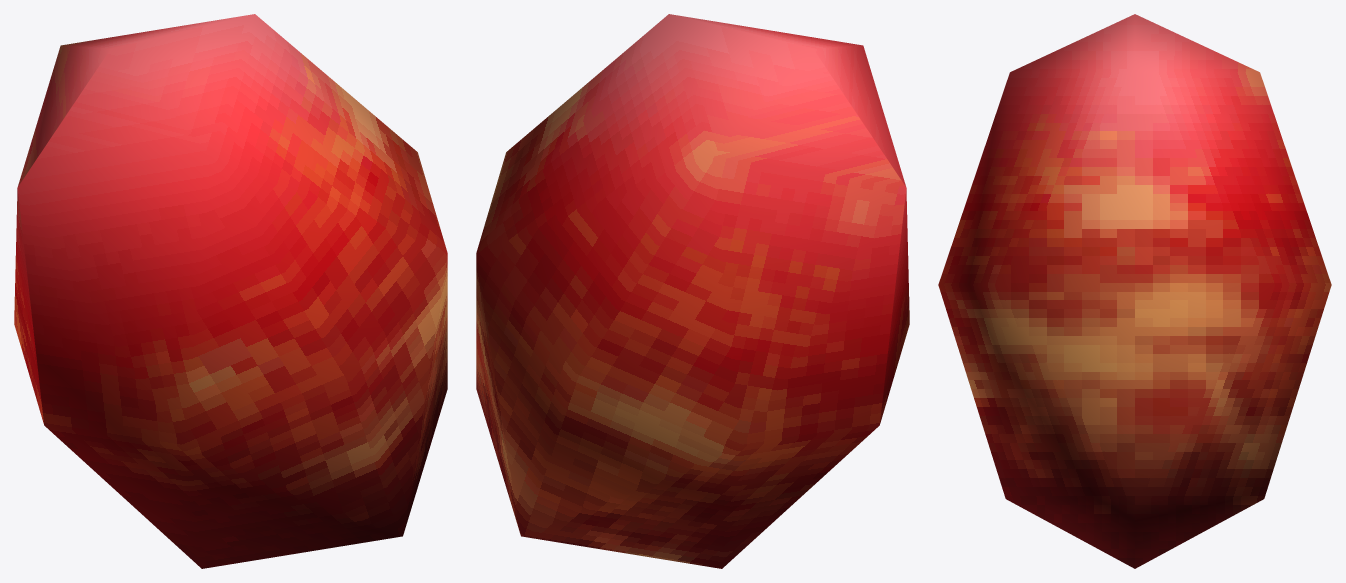
Rendered from RedBean.fbx.
3 renders of one model, left to right at view 1: azimuth 30°, elevation 25°; view 2: azimuth 150°, elevation 25°; view 3: azimuth 270°, elevation 25°, orthographic. The views are drawn at different scales.
Visible parts, largest first — view 1: material_0; view 2: material_0; view 3: material_0.
Boxes of the visible parts, <box> form: material_0: <box>14,14,447,568</box>; material_0: <box>476,14,909,568</box>; material_0: <box>938,14,1331,568</box>.
Size of the model in its own units: 979 by 1200 by 938.
